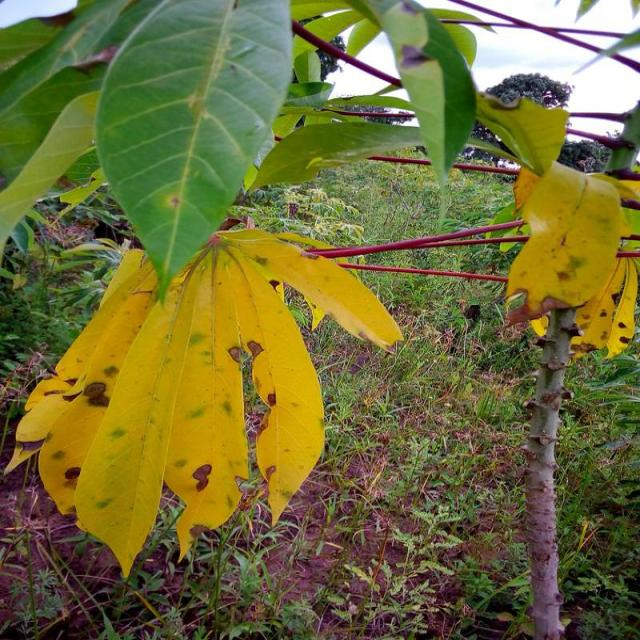cassava leaf: (6, 224, 405, 577), (94, 0, 295, 303), (504, 159, 631, 330)
